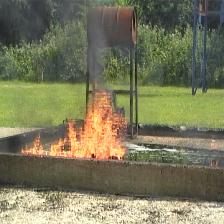fire: (21, 92, 127, 161)
